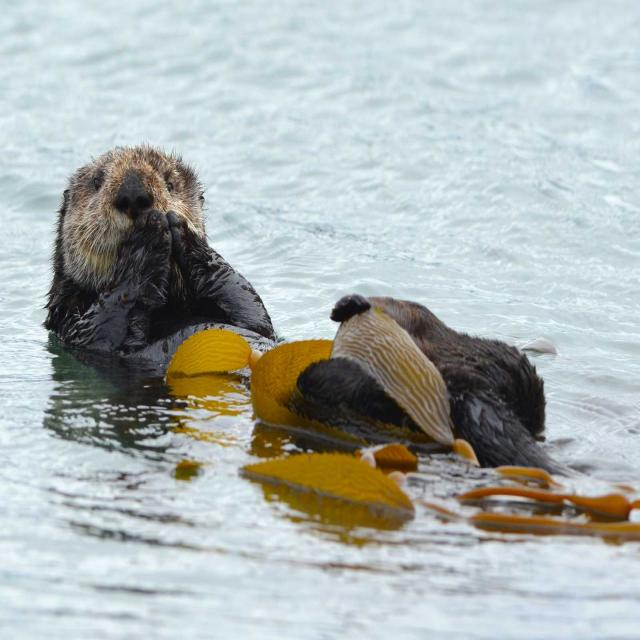Otter: (48, 145, 551, 485)
